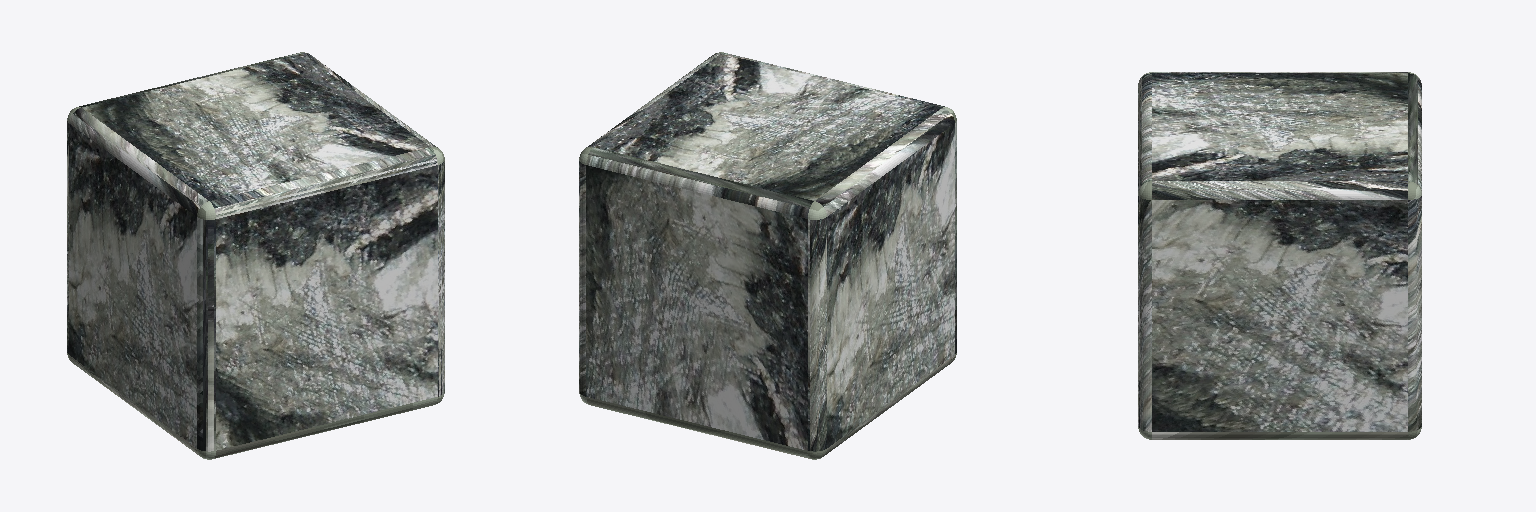
3 views of the same model, side by side, from view 1: azimuth 30°, elevation 25°; view 2: azimuth 150°, elevation 25°; view 3: azimuth 270°, elevation 25° (orthographic).
Parts seen in each view (by area): view 1: Cube; view 2: Cube; view 3: Cube.
Boxes of the visible parts, box(x1,y1,x2,y2) form: Cube: box(67, 52, 444, 459); Cube: box(579, 52, 956, 459); Cube: box(1138, 72, 1421, 439).
Bounding box in the file's own units: 2 × 2 × 2.
1 materials, 1 textured.